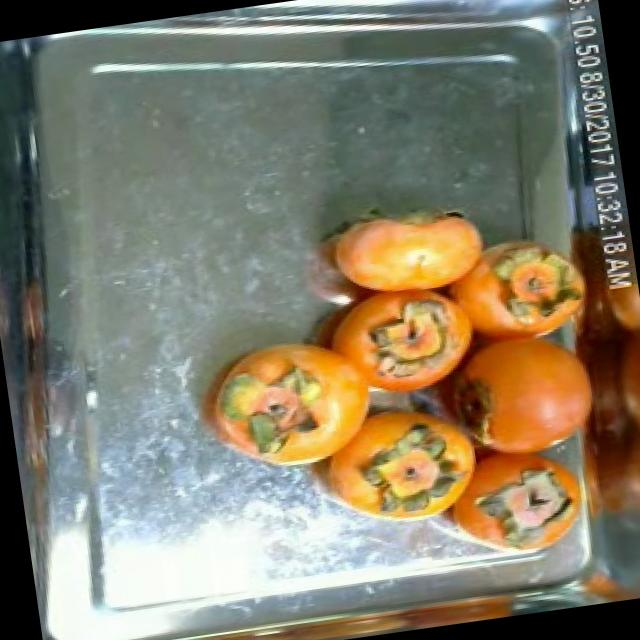Fruit: (320, 190, 502, 320)
